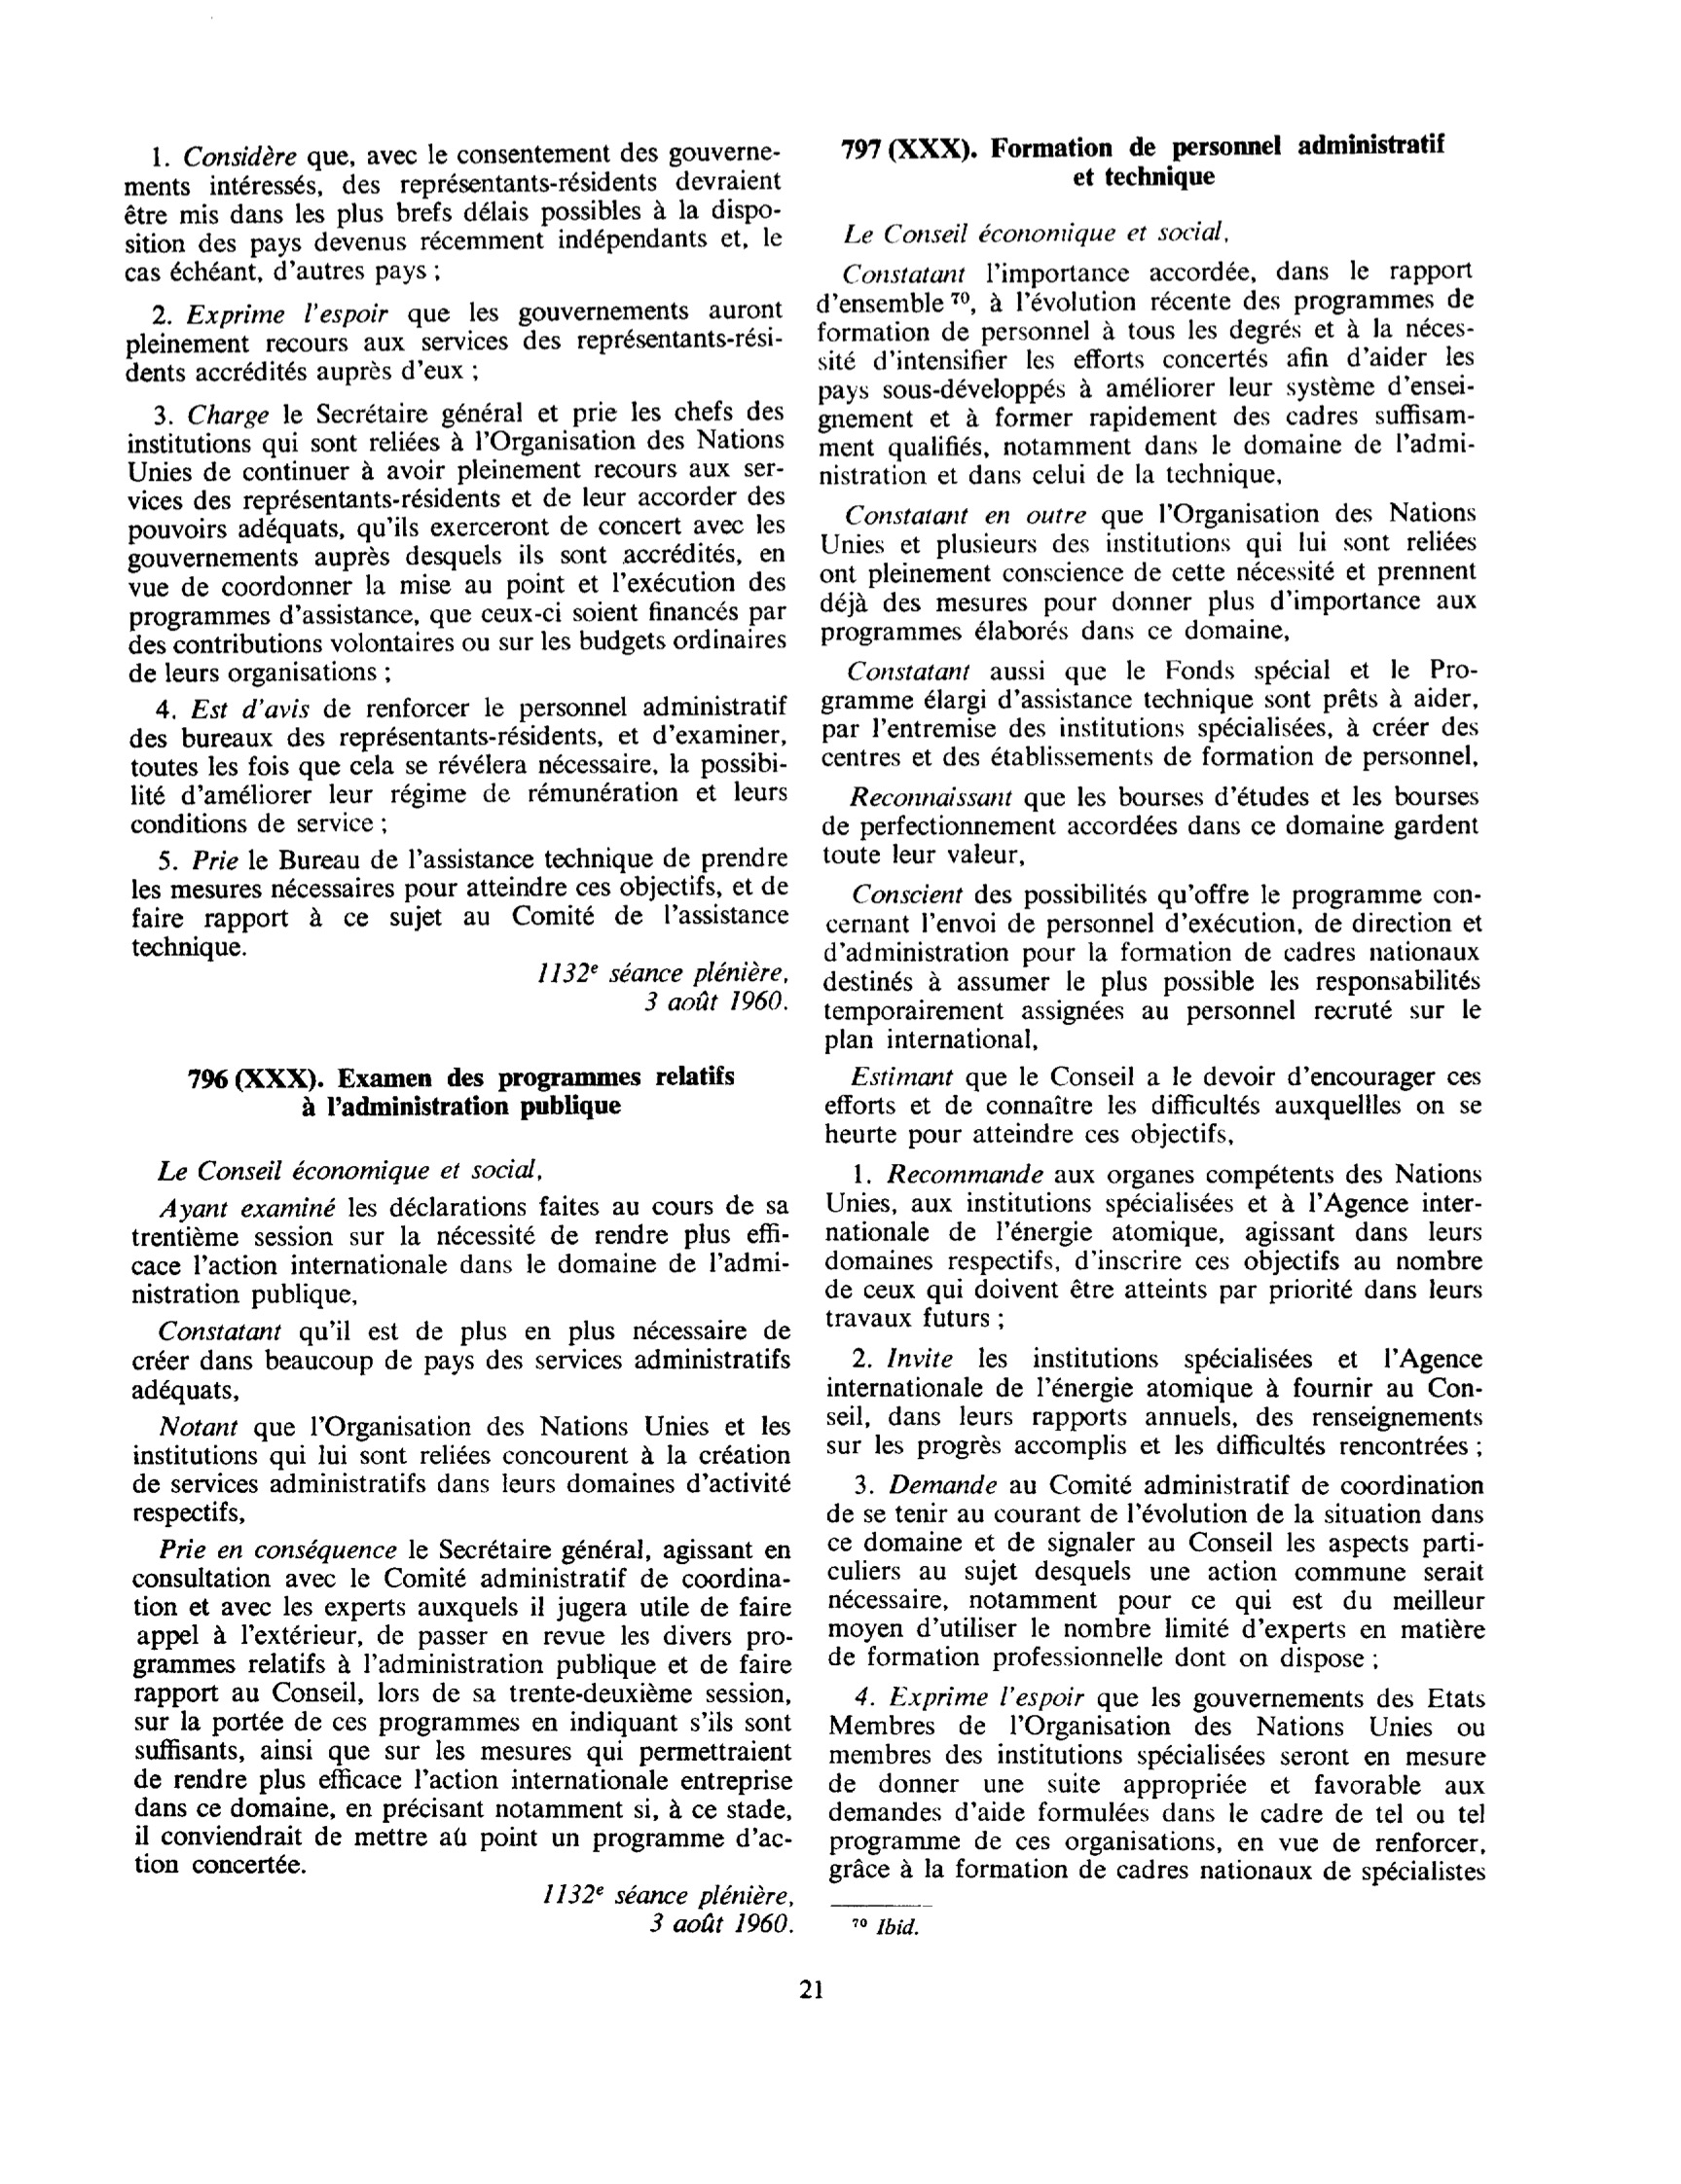MainZone-Date: (634, 985, 794, 1021), (640, 1911, 793, 1940)
MainZone-Head: (832, 124, 1457, 198), (176, 1056, 740, 1128)
MainZone-ListItem: (119, 396, 798, 690), (822, 1678, 1493, 1887), (821, 1469, 1492, 1673), (819, 1158, 1490, 1335), (115, 136, 791, 290), (122, 692, 797, 840), (123, 841, 797, 967), (820, 1340, 1491, 1463), (117, 294, 796, 391)
MainZone-P: (123, 1532, 802, 1882), (813, 255, 1482, 492), (820, 879, 1489, 1058), (815, 498, 1484, 649), (125, 1190, 796, 1311), (816, 654, 1485, 774), (126, 1408, 799, 1526), (818, 780, 1489, 873), (819, 1059, 1490, 1152), (125, 1314, 798, 1405), (126, 1148, 556, 1189), (829, 213, 1243, 250)
MainZone-Signature: (527, 1875, 799, 1911), (526, 957, 801, 986)
MarginTextZone-Notes: (844, 1908, 930, 1944)
NumberingZone: (793, 1971, 828, 2013)
